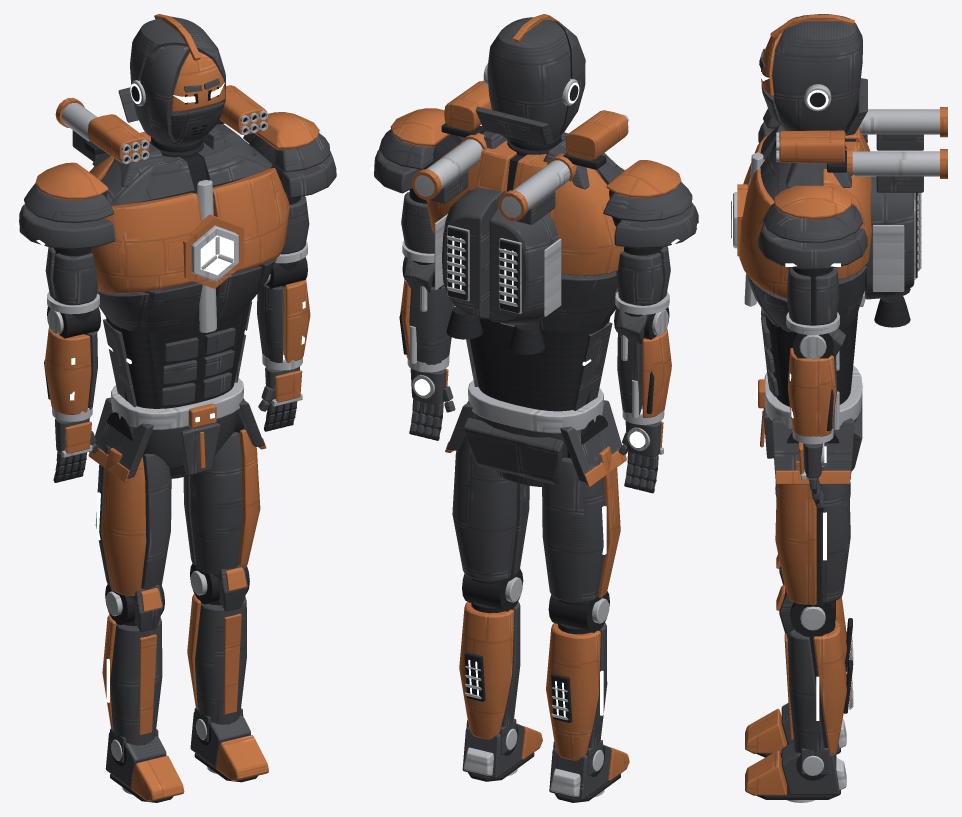
File: player.glb
The picture shows the model from 3 angles, left to right: view 1: azimuth 30°, elevation 25°; view 2: azimuth 150°, elevation 25°; view 3: azimuth 270°, elevation 25°; orthographic projection. The views are drawn at different scales.
Visible parts, largest first — view 1: Torso, Leg_R, Leg_L, Helmet, Arm_R, Arm_L, Forearm_R, Forearm_L, Boot_R, Boot_L, Hand_L, Hand_R (+1 smaller); view 2: Torso, Leg_R, Leg_L, Helmet, Arm_R, Arm_L, Forearm_R, Forearm_L, Boot_L, Boot_R, Hand_L, Hand_R; view 3: Torso, Leg_L, Helmet, Arm_L, Forearm_L, Boot_L, Boot_R, Hand_L, Leg_R.
Part boxes in pixels (x1,y1,x2,y2): Torso: (55,85,289,482); Leg_R: (95,412,171,745); Leg_L: (183,398,260,724); Helmet: (118,14,225,143); Arm_R: (14,162,115,326); Arm_L: (243,112,340,275); Forearm_R: (44,306,101,421); Forearm_L: (257,257,310,370); Boot_R: (105,728,184,802); Boot_L: (190,707,268,782); Hand_L: (258,366,302,431); Hand_R: (53,417,98,482); Torso: (411,80,628,487); Leg_R: (542,415,620,760); Leg_L: (452,401,529,739); Helmet: (475,14,585,145); Arm_R: (603,160,702,316); Arm_L: (369,108,464,264); Forearm_R: (614,307,671,424); Forearm_L: (399,256,454,372); Boot_L: (462,718,542,781); Boot_R: (549,740,629,802); Hand_L: (409,368,455,440); Hand_R: (618,421,663,493); Torso: (731,107,947,484); Leg_L: (775,432,853,755); Helmet: (759,14,867,135); Arm_L: (758,185,867,336); Forearm_L: (788,328,845,444); Boot_L: (745,742,846,802); Boot_R: (745,703,846,757); Hand_L: (798,442,824,512); Leg_R: (775,481,853,671).
Bounding box in the file's own units: 0.8938 × 2.11 × 0.547.
Materials: 6 (4 with a texture image).
